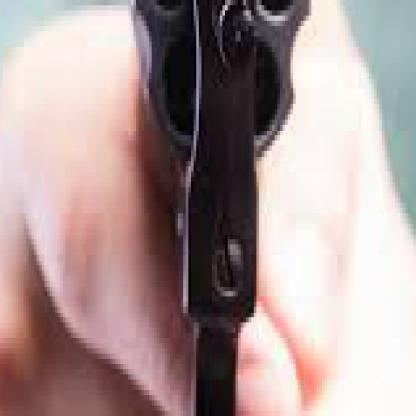gun: (121, 0, 320, 411)
